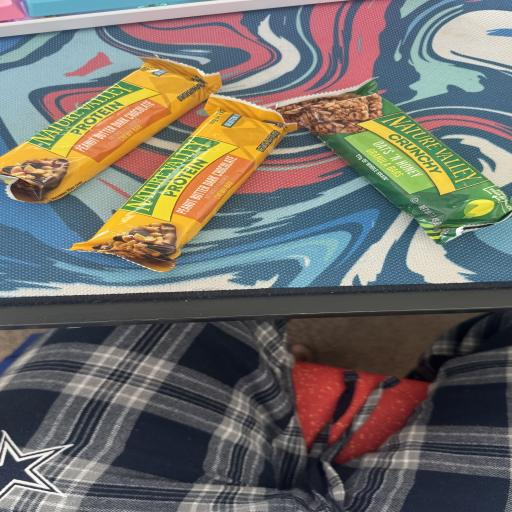granola: (72, 96, 296, 271), (277, 80, 511, 244), (0, 58, 221, 202)
